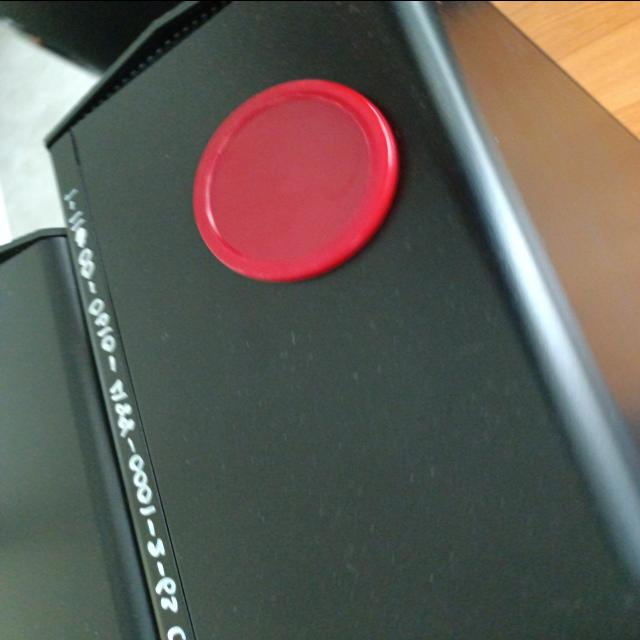chip: (188, 75, 401, 285)
